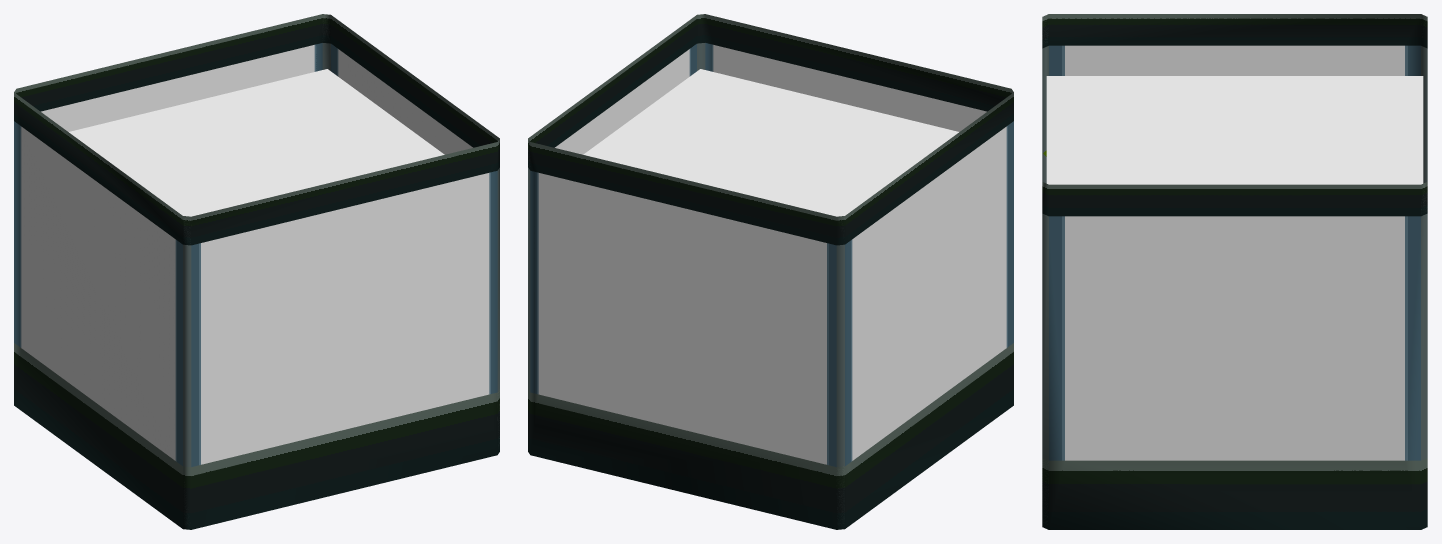
The model's file is int_sea_kaki.dae.
3 renders of one model, left to right at view 1: azimuth 30°, elevation 25°; view 2: azimuth 150°, elevation 25°; view 3: azimuth 270°, elevation 25°, orthographic. The views are drawn at different scales.
Parts seen in each view (by area): view 1: int_sea_kaki; view 2: int_sea_kaki; view 3: int_sea_kaki.
Boxes of the visible parts, x1,y1,x2,y2 form: int_sea_kaki: (14,14,499,529); int_sea_kaki: (528,14,1013,529); int_sea_kaki: (1042,14,1427,529).
Size of the model in its own units: 23.04 by 21.76 by 22.
Materials: 4 (2 with a texture image).
